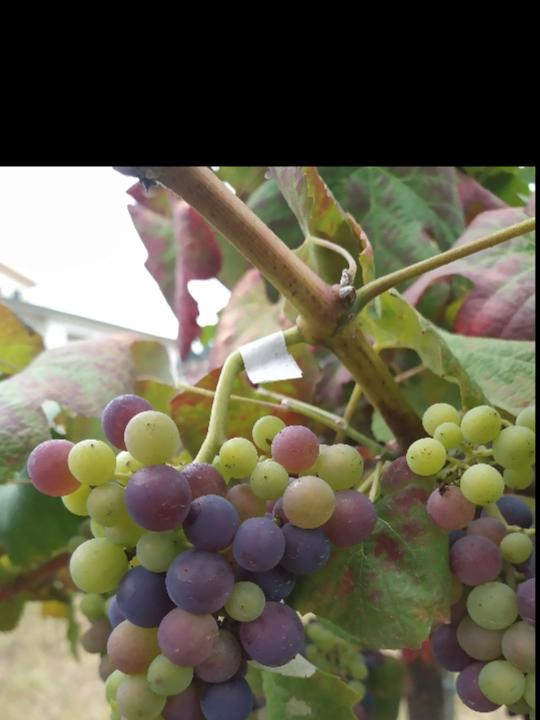grape: (18, 391, 378, 720), (403, 399, 535, 720)
